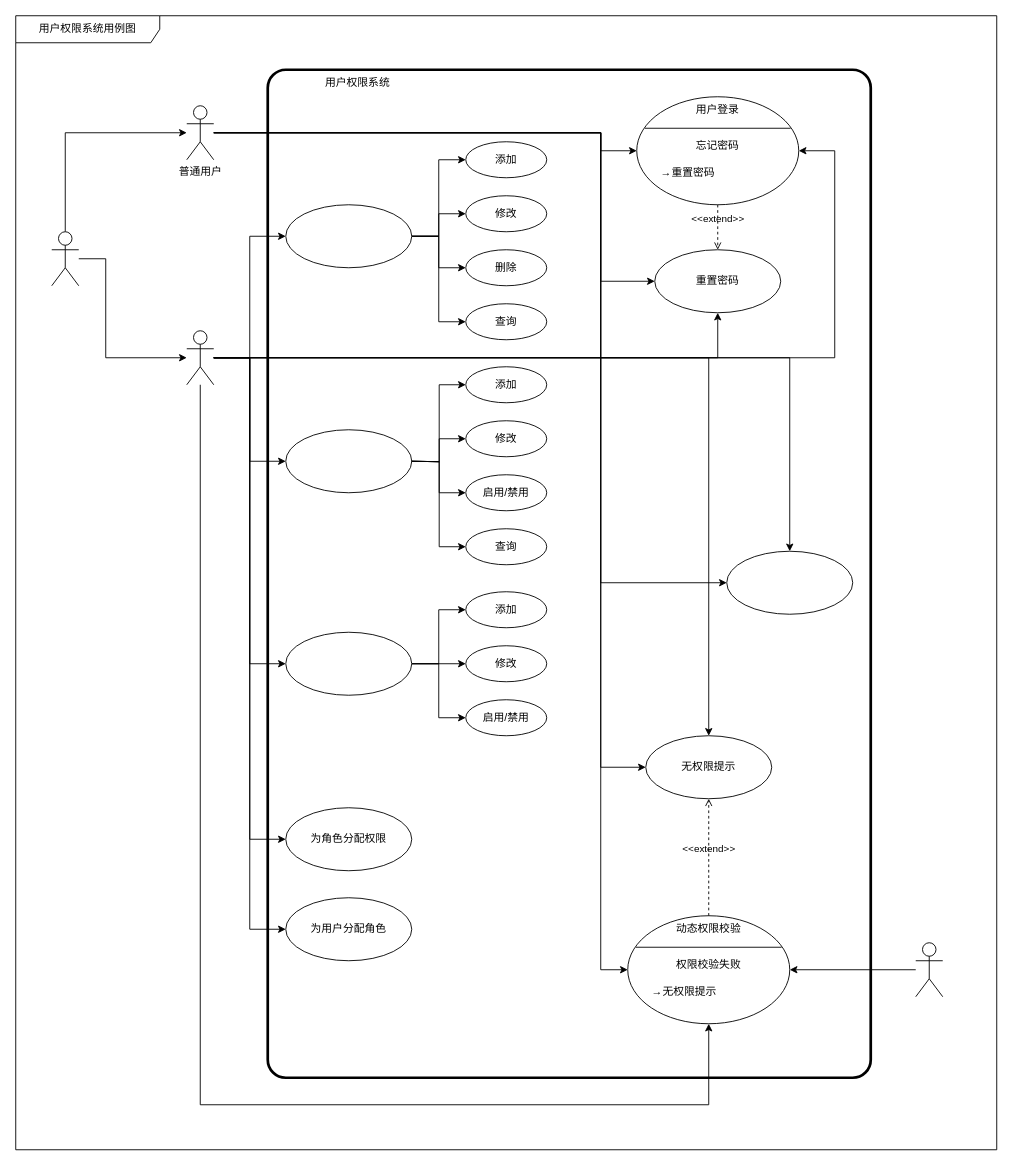
The diagram is 1013 pixels wide and 1166 high, and some of its shapes have lost their labels. Here are the shapes that lost their labels. From the top down, the box of each, then its label:
(285, 204, 412, 268): 用户管理
(51, 231, 79, 286): 用户
(186, 330, 214, 385): 超级管理员
(285, 429, 412, 493): 角色管理
(726, 550, 853, 614): 查询菜单树
(285, 631, 412, 695): 控制菜单全局可见性
(915, 942, 943, 997): 权限校验系统
